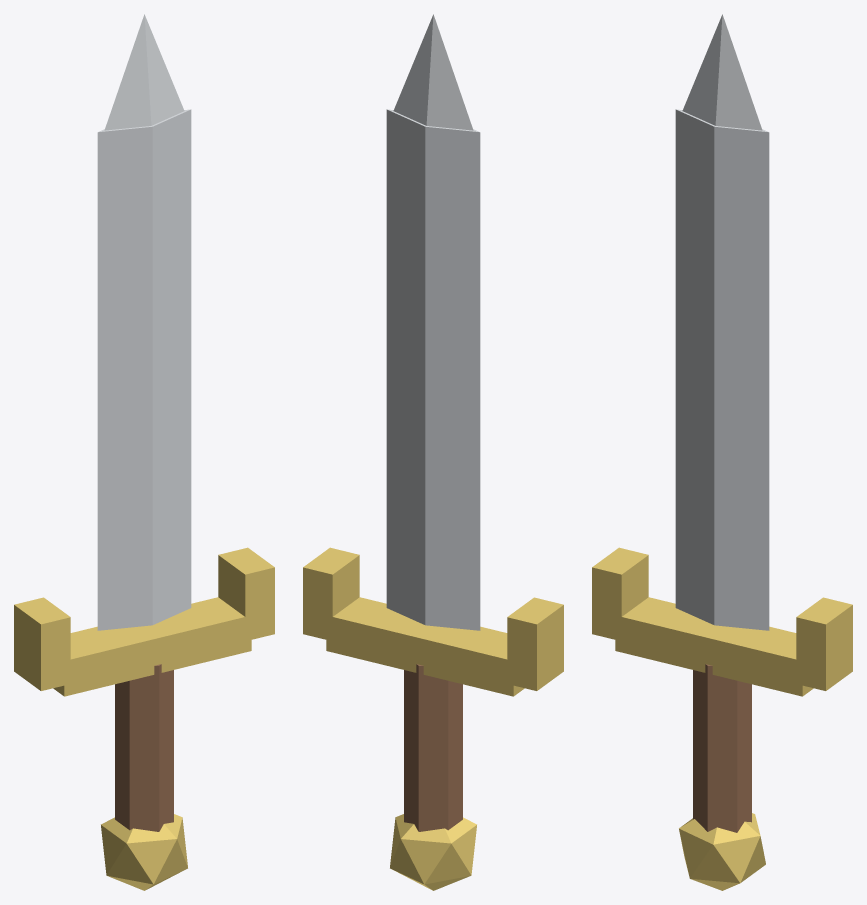
The model's file is dagger.glb.
3 views of the same model, side by side, from view 1: azimuth 30°, elevation 25°; view 2: azimuth 150°, elevation 25°; view 3: azimuth 330°, elevation 25° (orthographic).
Visible parts, largest first — view 1: dagger_blade, dagger_guard, dagger_grip, dagger_pommel, dagger_tip, dagger_quillon_-1, dagger_quillon_1; view 2: dagger_blade, dagger_guard, dagger_grip, dagger_pommel, dagger_tip, dagger_quillon_-1, dagger_quillon_1; view 3: dagger_blade, dagger_guard, dagger_grip, dagger_tip, dagger_pommel, dagger_quillon_1, dagger_quillon_-1.
Part boxes in pixels (x1,y1,x2,y2): dagger_blade: (97,109,191,630); dagger_guard: (53,597,251,696); dagger_grip: (115,664,173,831); dagger_pommel: (101,814,187,890); dagger_tip: (104,14,184,130); dagger_quillon_-1: (14,597,70,690); dagger_quillon_1: (218,547,274,641); dagger_blade: (386,109,480,630); dagger_guard: (326,597,524,696); dagger_grip: (404,664,462,831); dagger_pommel: (390,814,476,890); dagger_tip: (393,14,473,130); dagger_quillon_-1: (507,597,563,690); dagger_quillon_1: (303,547,359,641); dagger_blade: (675,109,769,630); dagger_guard: (615,597,813,696); dagger_grip: (693,664,751,832); dagger_tip: (682,14,762,130); dagger_pommel: (679,813,765,890); dagger_quillon_1: (796,597,852,690); dagger_quillon_-1: (592,547,648,641).
Bounding box in the file's own units: 0.275 × 0.985 × 0.0851.
